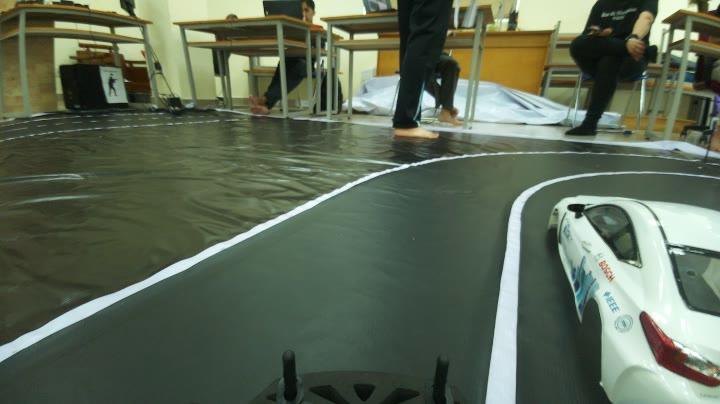car: (552, 169, 720, 404)
